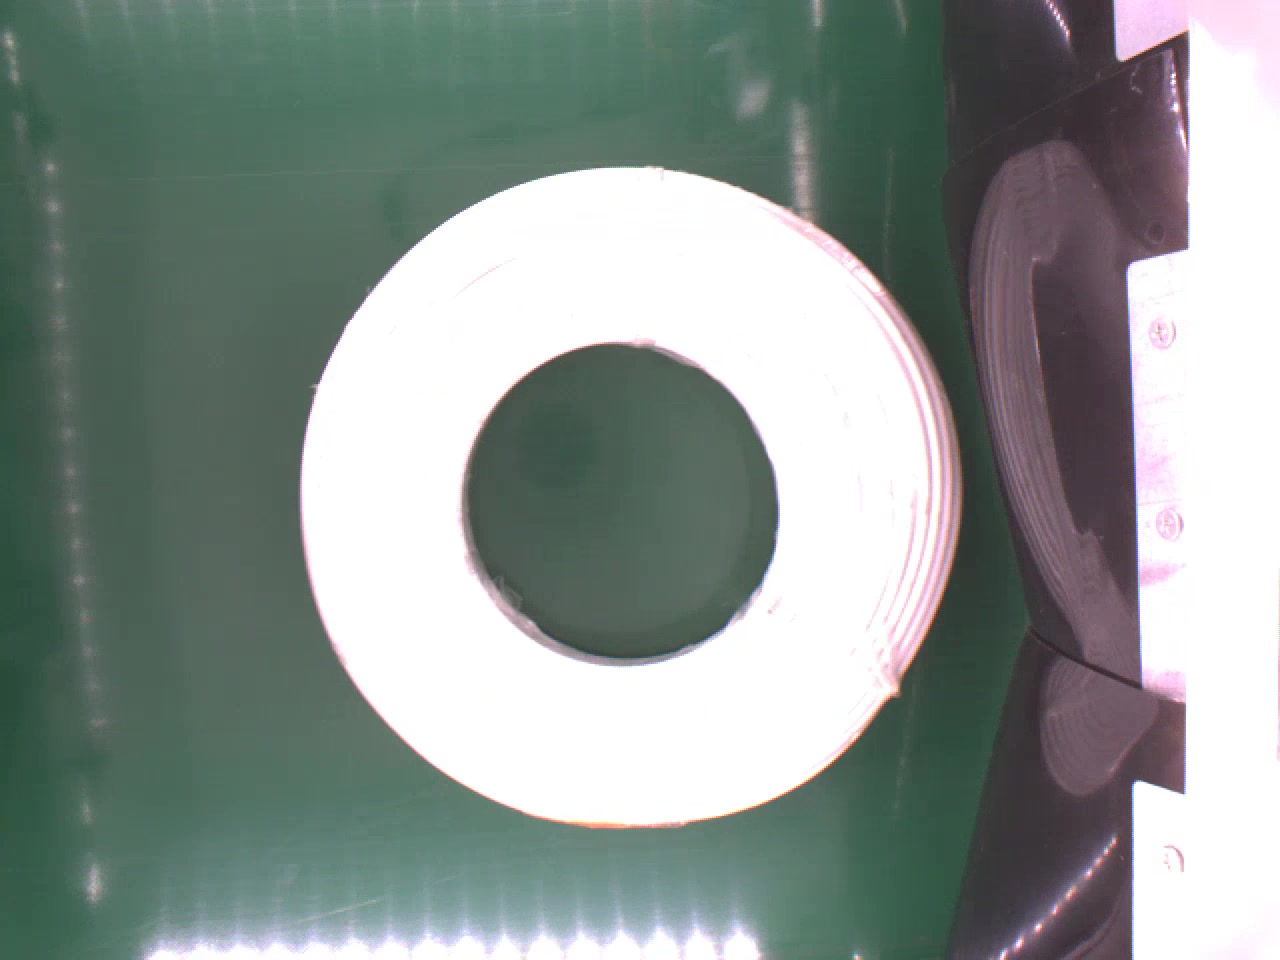white: (285, 165, 969, 839)
